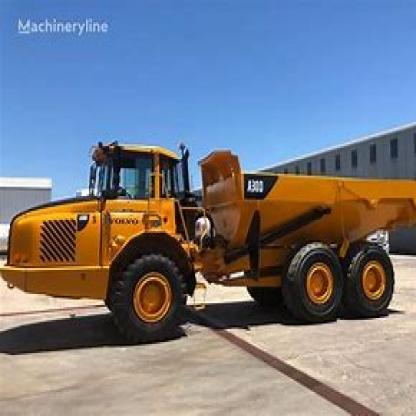dump_truck: (3, 128, 414, 340)
